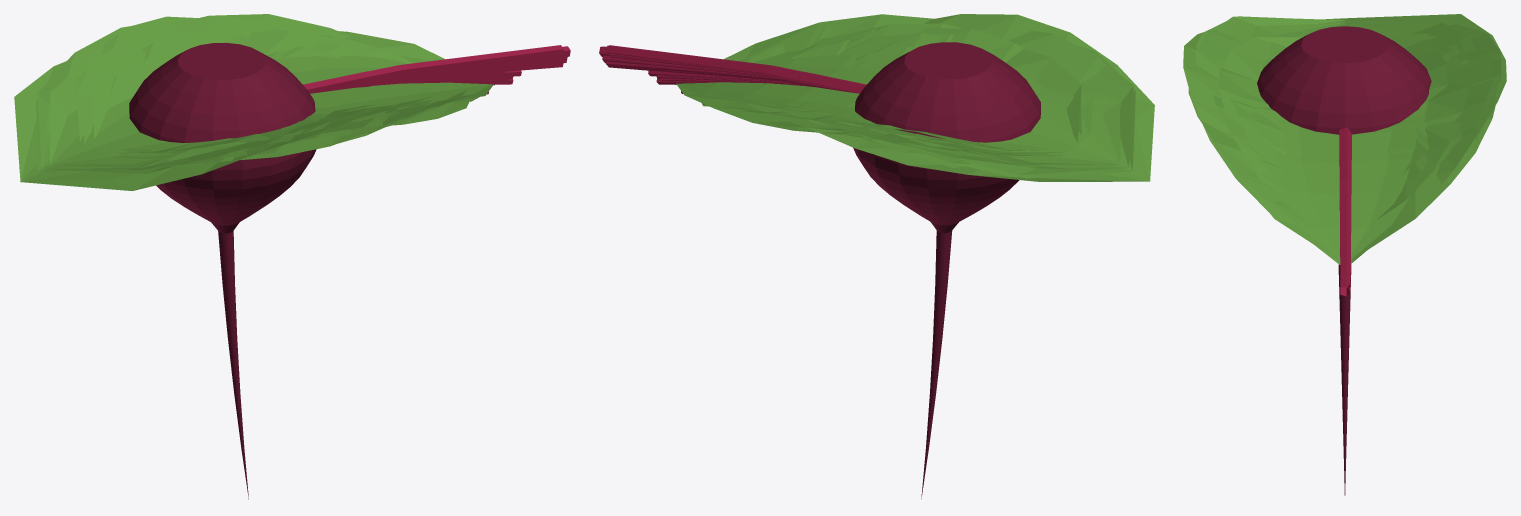
The model's file is beetroot_harvest_v02.articulated.glb.
3 views of the same model, side by side, from view 1: azimuth 30°, elevation 25°; view 2: azimuth 150°, elevation 25°; view 3: azimuth 270°, elevation 25° (orthographic).
Visible parts, largest first — view 1: root, leaf08_link2, leaf12_link2, leaf07_link2, leaf10_link2, leaf02_link2, leaf01_link2, leaf09_link2, leaf03_link2, leaf04_link0, leaf05_link2, leaf06_link2 (+5 smaller); view 2: root, leaf08_link2, leaf12_link2, leaf07_link2, leaf10_link2, leaf02_link2, leaf09_link2, leaf01_link2, leaf07_link0, leaf03_link2, leaf05_link2, leaf11_link2 (+4 smaller); view 3: leaf08_link2, root, leaf07_link2, leaf12_link2, leaf10_link2, leaf02_link2, leaf01_link2, leaf05_link2, leaf03_link2, leaf09_link2, leaf07_link0, leaf06_link2 (+3 smaller).
Part boxes in pixels (x1,y1,x2,y2): root: (129,42,316,499); leaf08_link2: (37,26,494,168); leaf12_link2: (14,14,469,190); leaf07_link2: (50,35,436,168); leaf10_link2: (92,31,429,150); leaf02_link2: (44,16,466,173); leaf01_link2: (83,30,449,154); leaf09_link2: (36,22,445,171); leaf03_link2: (110,53,376,153); leaf04_link0: (307,46,570,93); leaf05_link2: (94,43,398,154); leaf06_link2: (77,46,379,159); root: (853,42,1040,498); leaf08_link2: (675,14,1133,174); leaf12_link2: (701,14,1154,181); leaf07_link2: (716,23,1120,164); leaf10_link2: (790,40,1081,156); leaf02_link2: (742,30,1126,177); leaf09_link2: (766,27,1135,178); leaf01_link2: (738,27,1061,153); leaf07_link0: (606,45,858,92); leaf03_link2: (854,47,1081,154); leaf05_link2: (747,33,1044,149); leaf11_link2: (681,29,1121,170); leaf08_link2: (1188,16,1501,261); root: (1257,26,1431,495); leaf07_link2: (1212,22,1475,219); leaf12_link2: (1183,14,1506,211); leaf10_link2: (1223,37,1469,194); leaf02_link2: (1195,29,1492,229); leaf01_link2: (1219,36,1461,187); leaf05_link2: (1235,39,1450,180); leaf03_link2: (1252,42,1447,155); leaf09_link2: (1230,16,1493,184); leaf07_link0: (1339,145,1351,280); leaf06_link2: (1230,33,1460,173).
Size of the model in its own units: 0.2521 by 0.1965 by 0.1298.
1 material, 1 textured.
